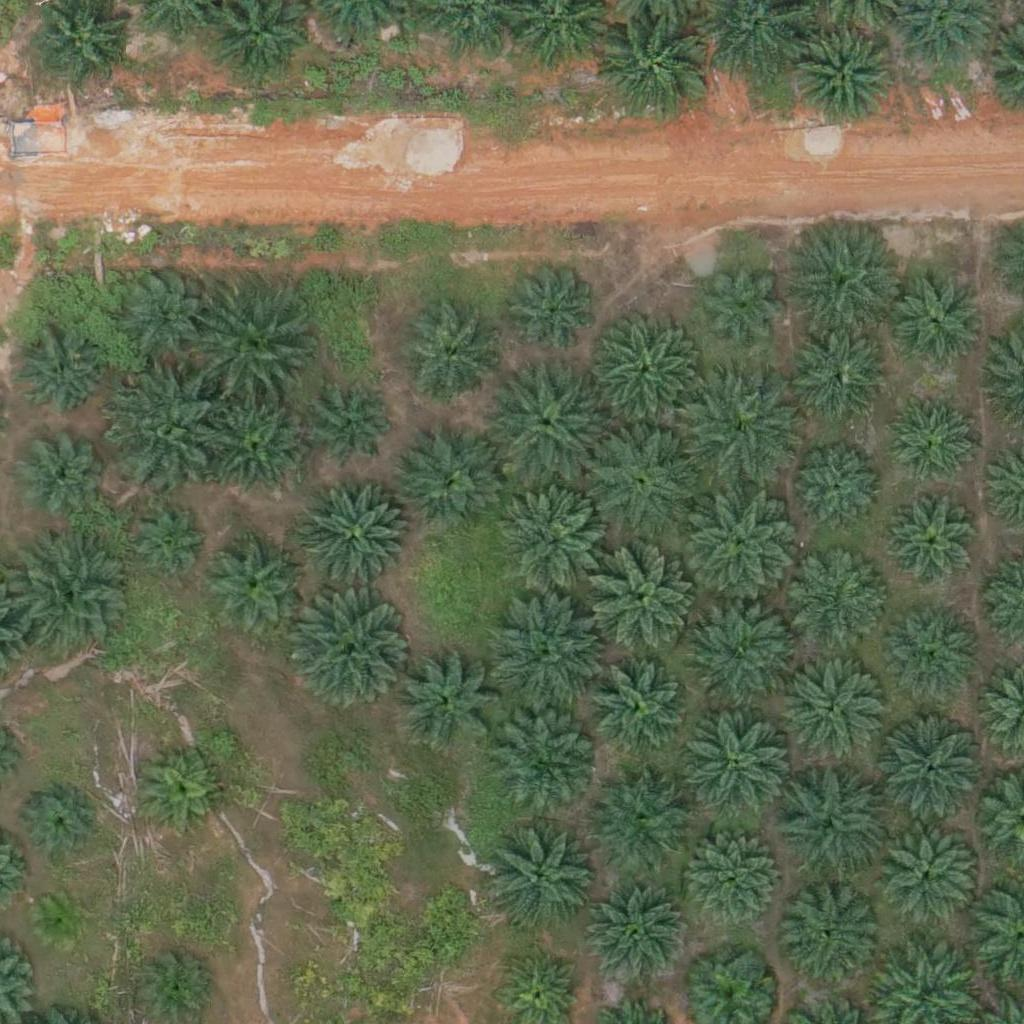Kelapa_Sawit: (686, 490, 799, 604), (487, 823, 600, 937), (290, 595, 403, 709), (16, 544, 129, 658), (777, 654, 890, 768), (876, 712, 989, 825), (686, 375, 799, 488), (687, 709, 800, 822), (584, 545, 697, 658), (584, 316, 697, 429), (498, 486, 611, 599), (487, 709, 600, 822), (598, 10, 711, 123), (686, 594, 798, 708), (583, 422, 695, 536), (786, 217, 898, 331), (776, 766, 888, 880), (496, 365, 608, 478), (493, 601, 605, 714), (301, 481, 413, 594), (198, 294, 310, 407), (108, 373, 220, 486), (869, 601, 981, 714), (776, 548, 888, 661), (685, 827, 785, 928), (586, 884, 686, 985), (502, 259, 602, 360), (396, 647, 496, 748), (397, 432, 497, 533), (204, 392, 304, 493), (110, 259, 210, 360), (884, 490, 984, 591), (788, 329, 888, 430), (775, 888, 875, 989), (872, 827, 972, 928), (594, 770, 694, 870), (589, 658, 689, 758), (401, 309, 501, 409), (205, 534, 305, 634), (880, 388, 980, 488), (887, 264, 987, 364), (792, 26, 892, 126), (16, 330, 103, 419), (703, 262, 790, 350), (310, 383, 397, 471), (123, 500, 210, 588), (16, 429, 103, 517), (136, 750, 223, 838), (798, 447, 885, 535), (20, 788, 95, 864), (31, 896, 81, 946)
